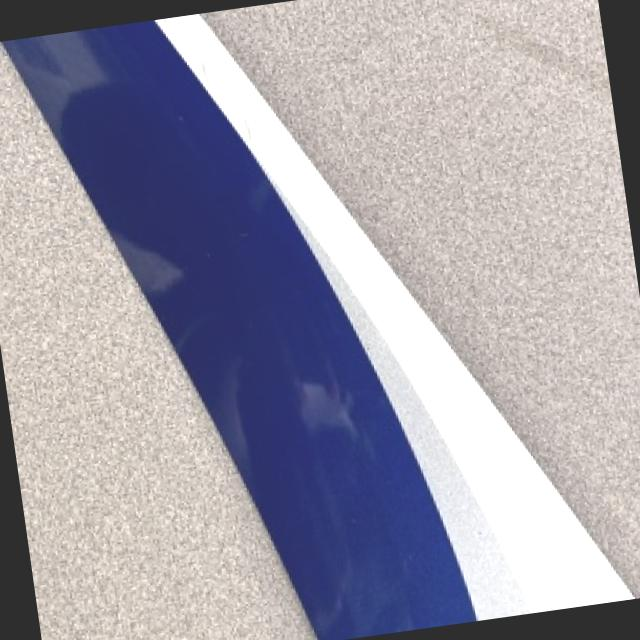healthy: (9, 17, 633, 640)
